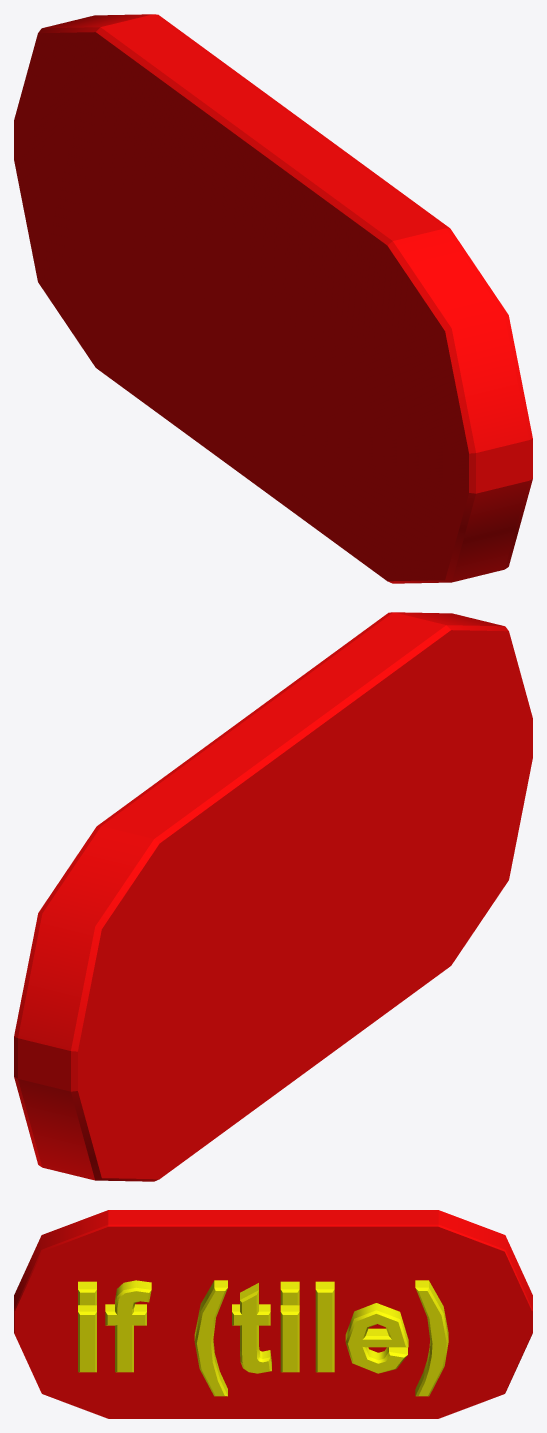
The model's file is ifTile.FBX.
3 views of the same model, one above another, from view 1: azimuth 30°, elevation 25°; view 2: azimuth 150°, elevation 25°; view 3: azimuth 270°, elevation 25° (orthographic). The views are drawn at different scales.
Visible parts, largest first — view 1: if(tile); view 2: if(tile); view 3: if(tile).
Part boxes in pixels (x1,y1,x2,y2): if(tile): [14, 14, 532, 583]; if(tile): [14, 612, 532, 1181]; if(tile): [14, 1210, 532, 1418].
Bounding box in the file's own units: 110 × 381 × 924.
